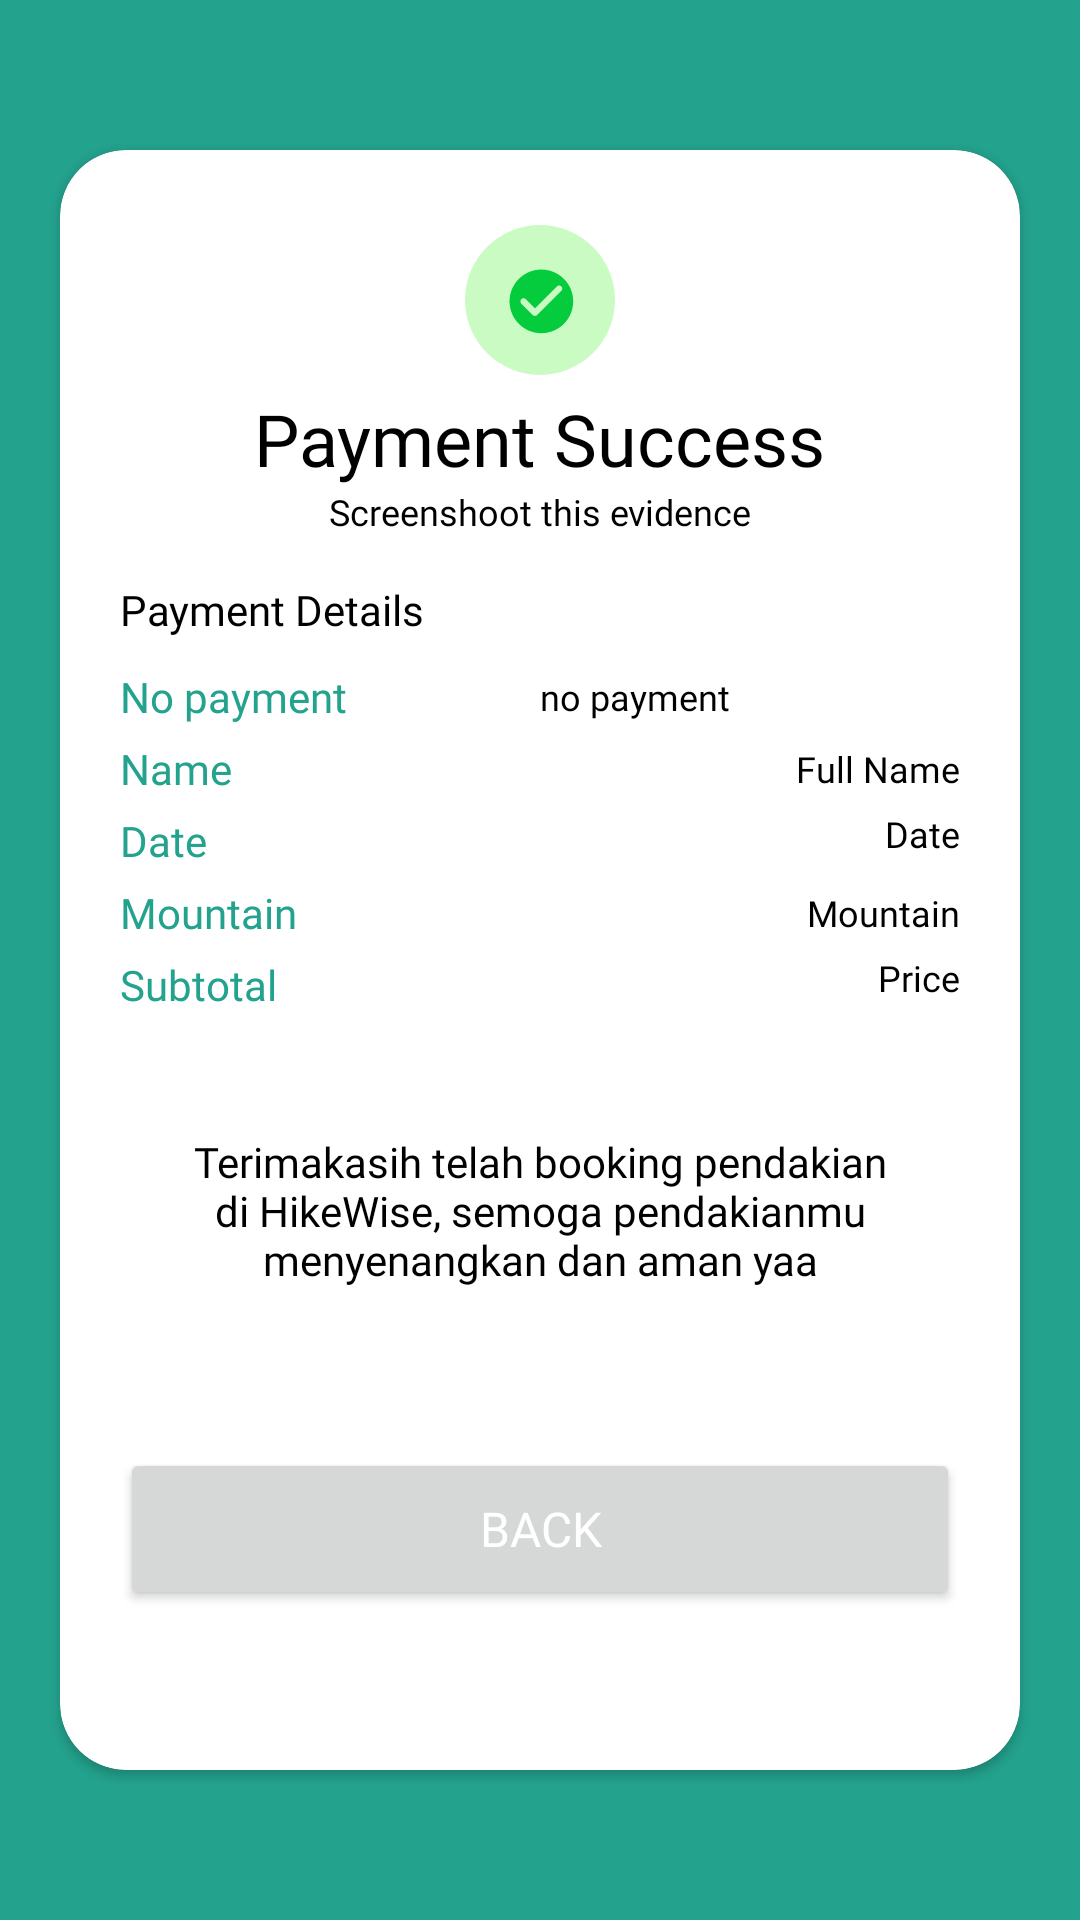

Screen size 1080*1920. Icon name, then its center in pixels as point (x, y):
status payment: point (540, 300)
